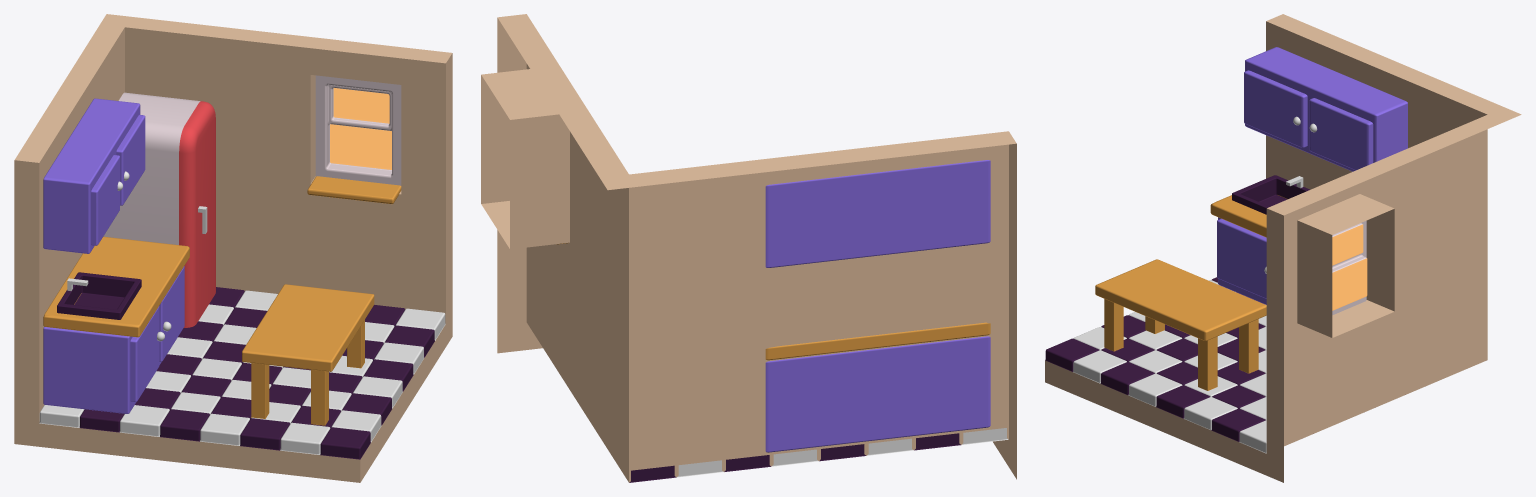
Rendered from kitchenRoom.glb.
The picture shows the model from 3 angles, left to right: view 1: azimuth 30°, elevation 25°; view 2: azimuth 150°, elevation 25°; view 3: azimuth 270°, elevation 25°; orthographic projection. The views are drawn at different scales.
Visible parts, largest first — view 1: Plane, Plane.001, Cube.003, Plane.011, Plane.007, Plane.002, Plane.006, Plane.003, Plane.004, Plane.008, Plane.005, Cube.002 (+2 smaller); view 2: Plane, Plane.003, Plane.007, Plane.001, Plane.004; view 3: Plane, Plane.001, Plane.011, Plane.008, Plane.007, Plane.012, Plane.005, Cube.003, Cube.002, Plane.004.
Part boxes in pixels (x1,y1,x2,y2): Plane: [14, 14, 452, 482]; Plane.001: [39, 287, 445, 459]; Cube.003: [315, 75, 401, 185]; Plane.011: [242, 284, 374, 371]; Plane.007: [43, 98, 140, 253]; Plane.002: [103, 92, 200, 244]; Plane.006: [179, 101, 215, 327]; Plane.003: [43, 326, 161, 413]; Plane.004: [43, 236, 189, 337]; Plane.008: [91, 114, 145, 245]; Plane.005: [130, 266, 184, 402]; Cube.002: [57, 272, 141, 319]; Plane: [481, 14, 1016, 482]; Plane.003: [765, 336, 990, 452]; Plane.007: [765, 160, 990, 267]; Plane.001: [629, 428, 1008, 482]; Plane.004: [765, 322, 990, 360]; Plane: [1045, 14, 1521, 482]; Plane.001: [1045, 277, 1266, 453]; Plane.011: [1095, 259, 1266, 340]; Plane.008: [1244, 70, 1373, 170]; Plane.007: [1245, 47, 1407, 171]; Plane.012: [1104, 299, 1258, 390]; Plane.005: [1217, 218, 1266, 298]; Cube.003: [1332, 220, 1367, 315]; Cube.002: [1232, 175, 1309, 214]; Plane.004: [1210, 195, 1287, 237].
Bounding box in the file's own units: 11.31 × 7 × 11.31.
